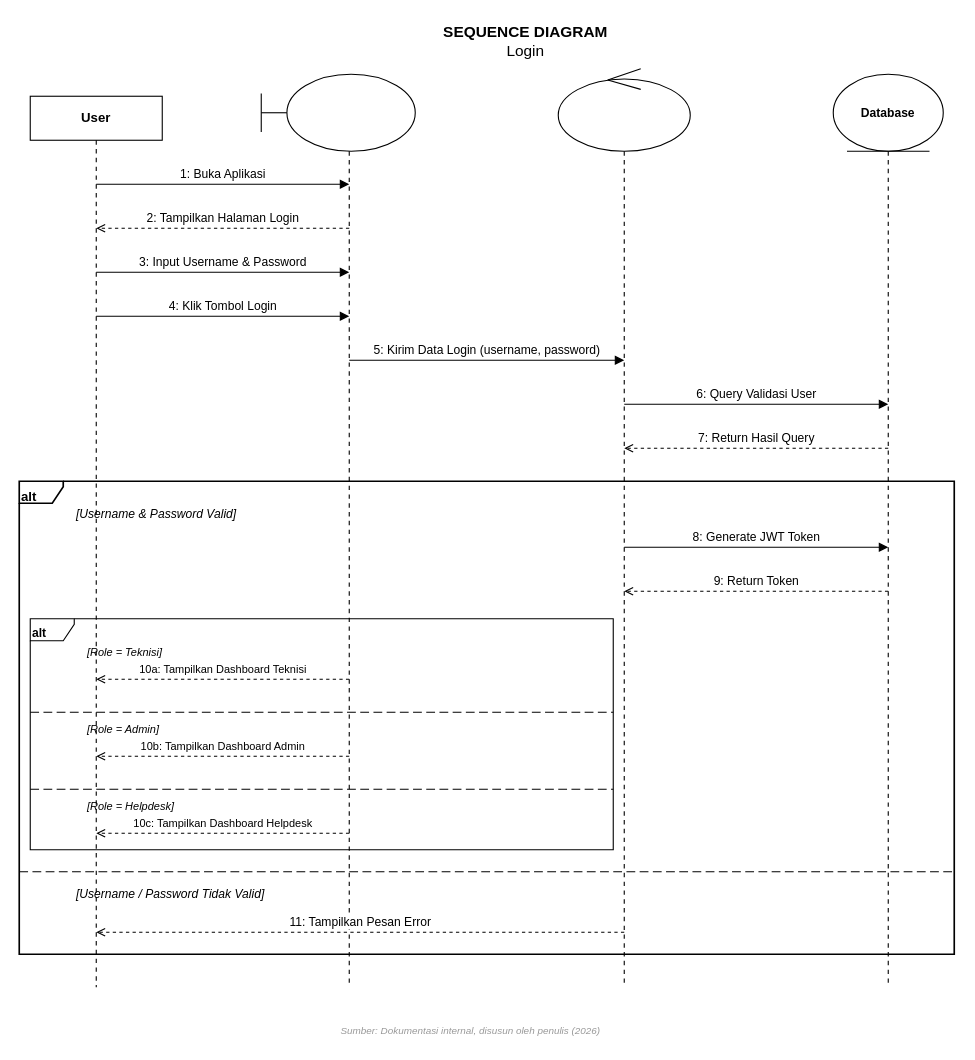
Some shapes in this 975 by 1060 pixel diagram are drawn without their labels. Here are the shapes that lost their labels. From the top down, the box of each, then its label:
(260, 73, 415, 151): Halaman Login
(557, 68, 690, 151): AuthController
